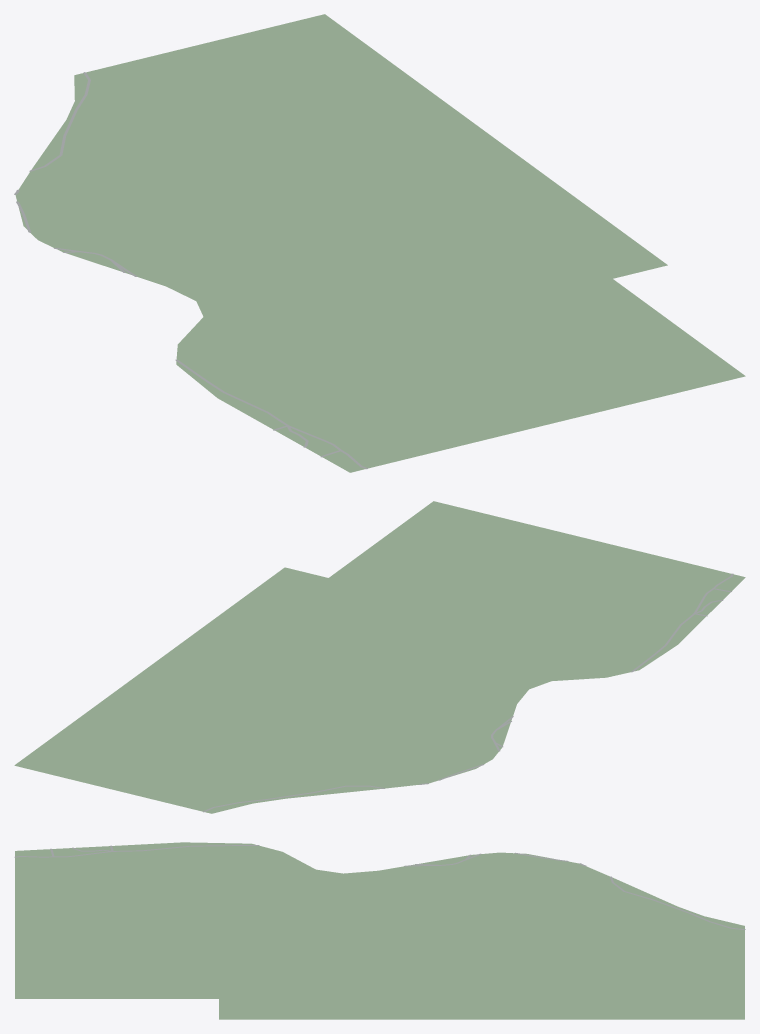
The model's file is -3_4-known-coarse.glb.
3 renders of one model, top to bottom at view 1: azimuth 30°, elevation 25°; view 2: azimuth 150°, elevation 25°; view 3: azimuth 270°, elevation 25°, orthographic. The views are drawn at different scales.
Size of the model in its own units: 572 by 0.1 by 998.
